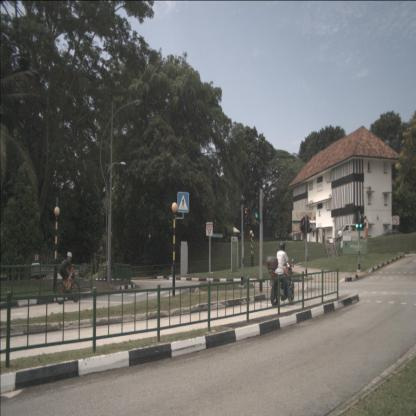vehicle-bicycle: (55, 252, 80, 304)
vehicle-car: (337, 224, 367, 245), (376, 229, 402, 244)
vehicle-motorcycle: (265, 241, 294, 308)
vehicle-truck: (23, 263, 47, 280)
